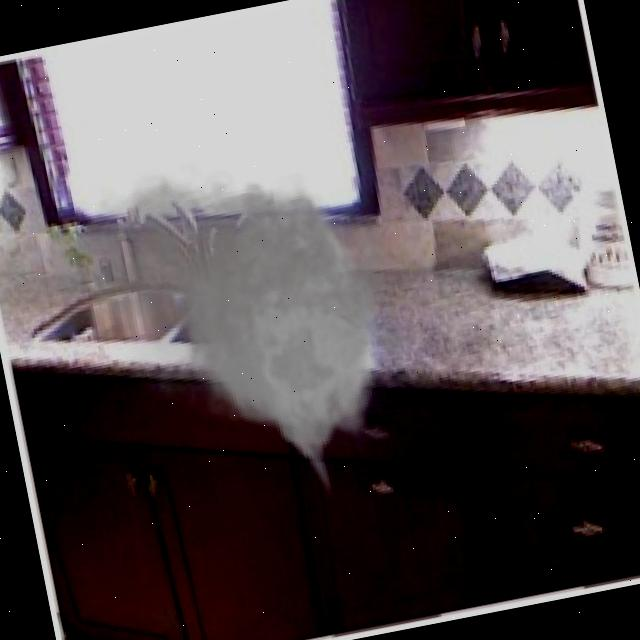smoke: (20, 118, 455, 548)
